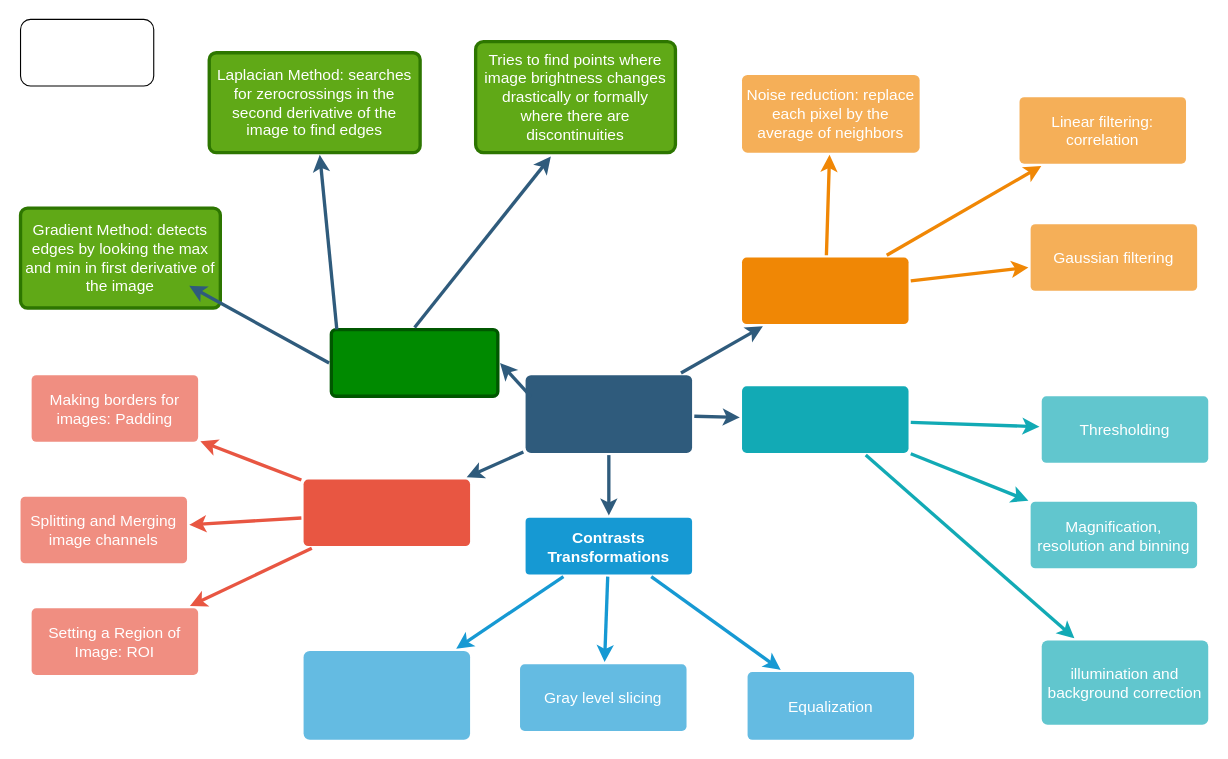
Image size: 1228x759. Some labels were removed from this diagram. Here are the shapes that lost their labels. From the top down, the centre of each, then its label:
At pixel 86 52: "Jua Juan Carlos Giron 19000607".
At pixel 824 290: "Special Filters".
At pixel 414 362: "Edge Detection".
At pixel 608 413: "Image Operations and Transformations".
At pixel 824 419: "Image Quantifications".
At pixel 386 512: "Basic Operations between Images".
At pixel 386 694: "Brightness and contrast adjustments multiplying by a constant".
